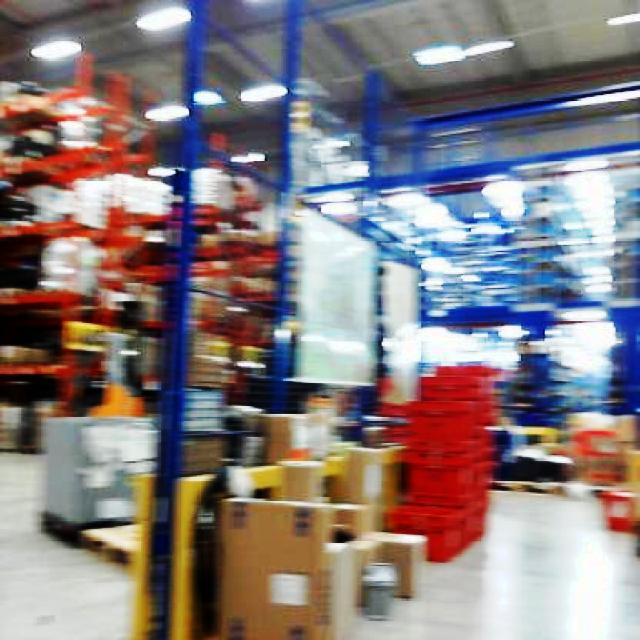ground: (0, 445, 638, 638)
pallet: (162, 445, 426, 638), (211, 494, 374, 638), (391, 360, 502, 562)
